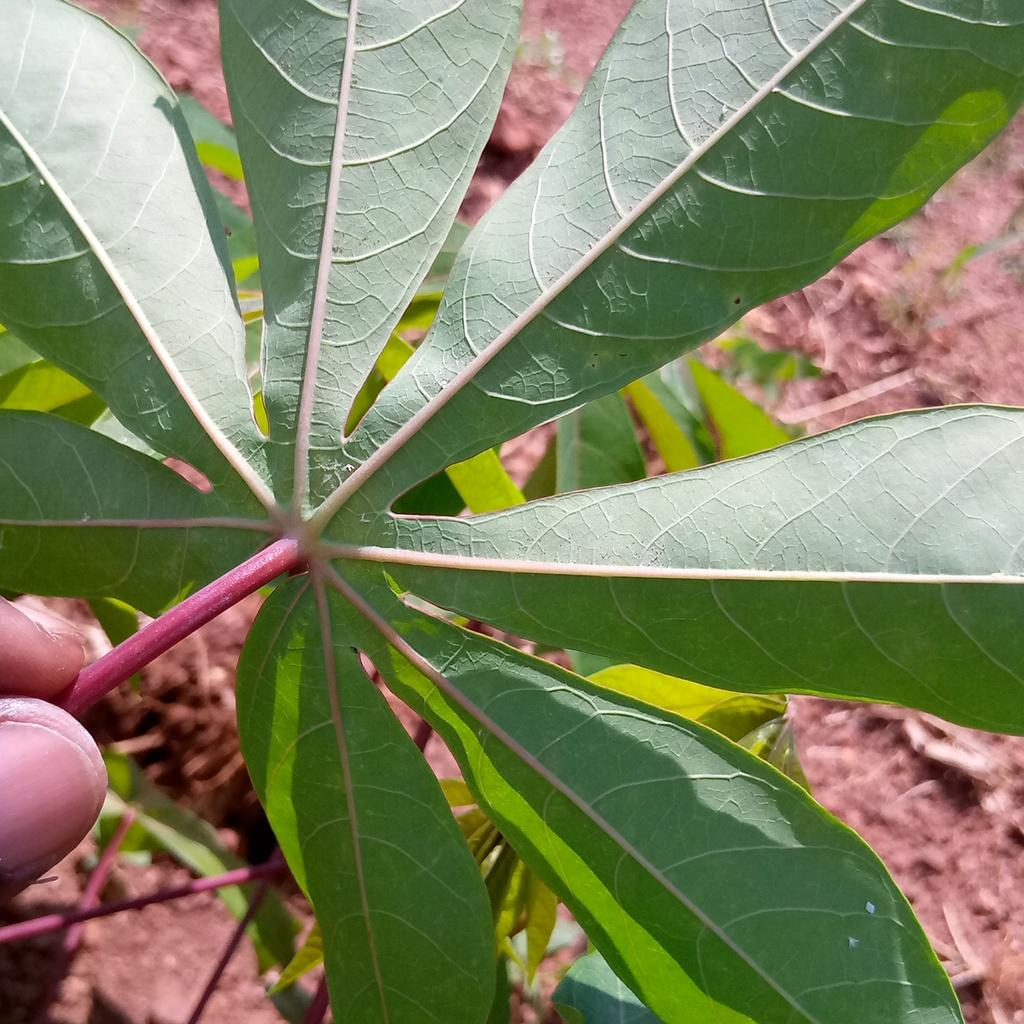adult: (439, 379, 451, 390), (865, 901, 875, 914), (848, 937, 859, 948), (81, 512, 92, 522), (343, 464, 355, 473), (38, 179, 45, 186), (146, 355, 152, 361)
